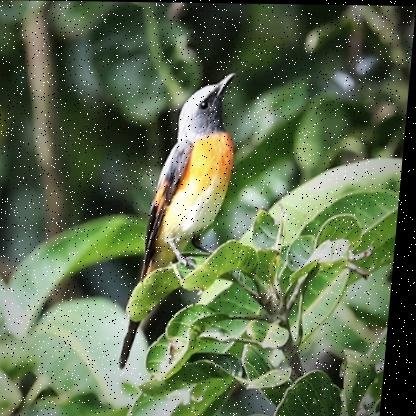Burung: (125, 69, 243, 368)
